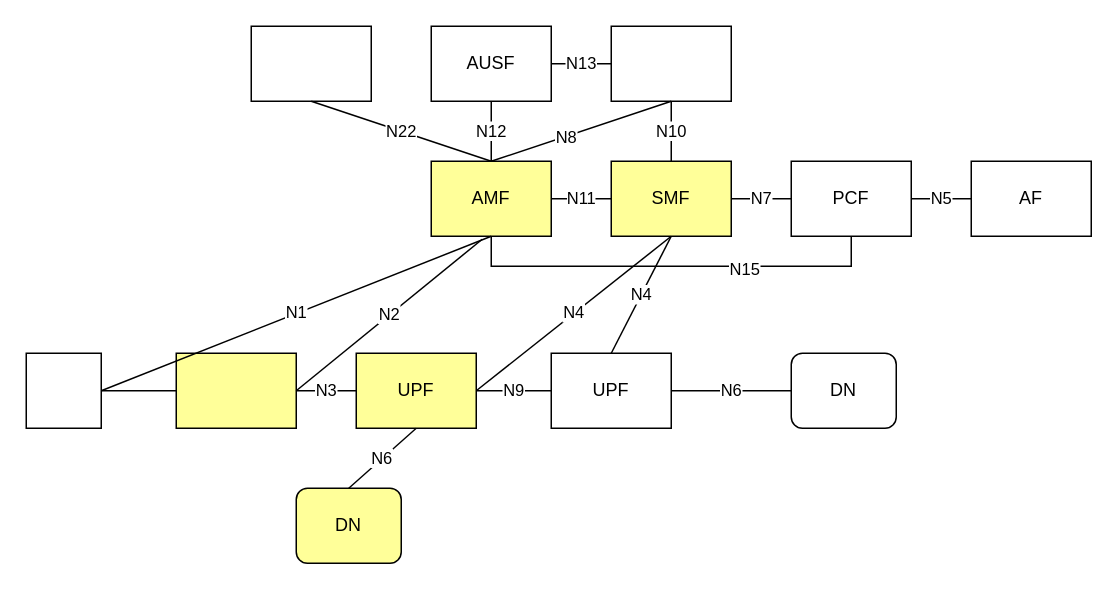
Some shapes in this 1118 by 590 pixel diagram are drawn without their labels. The shapes that lost their labels are listed below. From the top down, each one's centre as x and y in pixels, then its label:
At (x=310, y=63): "NSSF".
At (x=670, y=63): "UDM".
At (x=63, y=390): "UE".
At (x=235, y=390): "NG-RAN (gNodeB DU+CU)".
